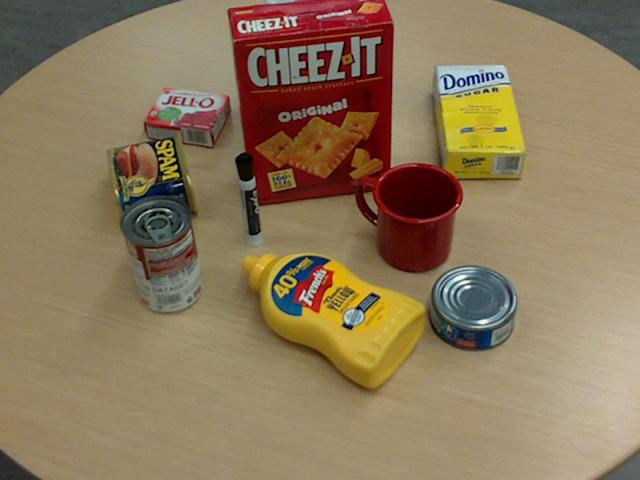cracker_box: (227, 0, 393, 203)
gelatin_box: (141, 86, 229, 146)
large_marker: (234, 152, 262, 247)
master_chef_can: (264, 0, 350, 125)
mug: (357, 161, 463, 271)
mustard_bottle: (240, 252, 424, 387)
potted_meat_can: (107, 131, 197, 224)
sugar_box: (432, 64, 526, 179)
tomato_soup_can: (118, 193, 201, 312)
tuna_fish_can: (429, 265, 518, 350)
